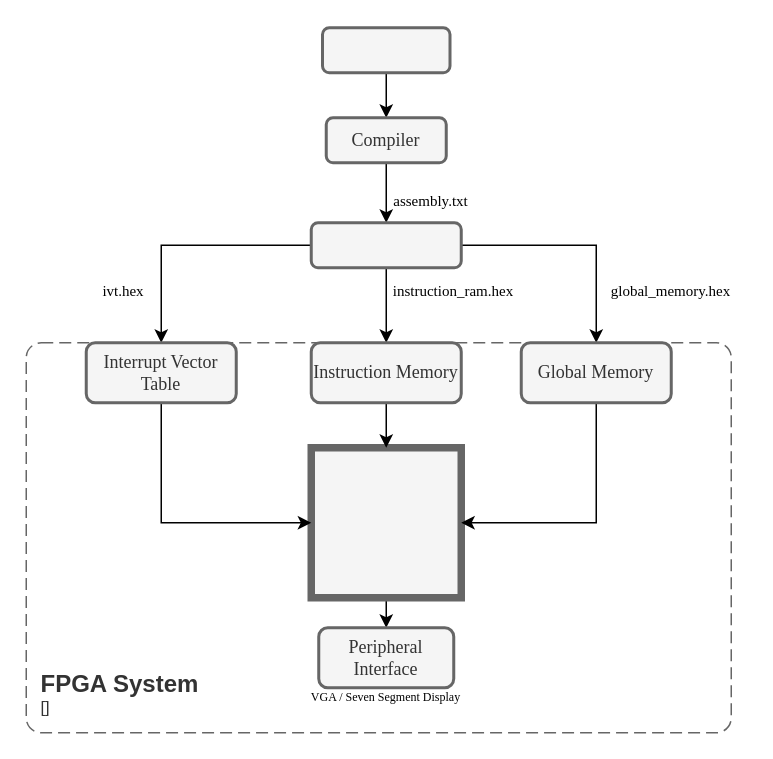
Some shapes in this 773 by 759 pixel diagram are drawn without their labels. Here are the shapes that lost their labels. From the top down, the box of each, then its label:
(320, 26, 451, 74): C-like Source
(309, 220, 462, 268): Assembler
(307, 443, 464, 601): 16-Bit CPU
